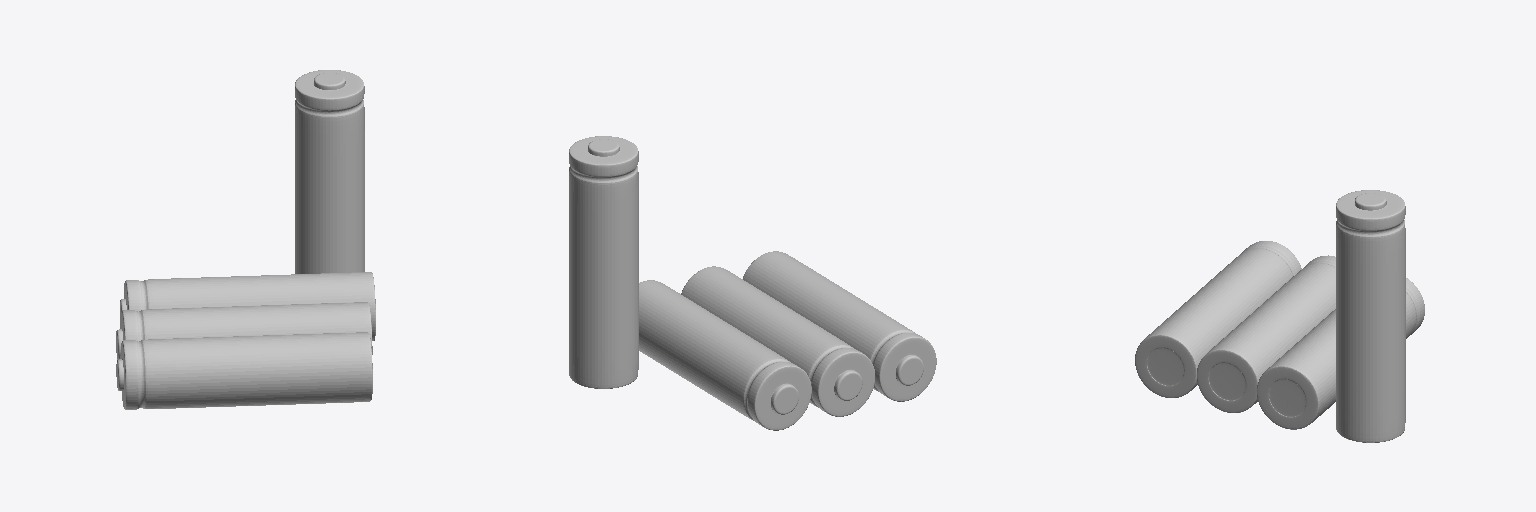
Rendered from uploads_files_3659291_18650_obj.obj.
3 renders of one model, left to right at view 1: azimuth 30°, elevation 25°; view 2: azimuth 150°, elevation 25°; view 3: azimuth 270°, elevation 25°, orthographic.
Parts seen in each view (by area): view 1: Akku_18650.brown_Cylinder.001, Akku_18650_green_Cylinder.055, Akku_18650.pink_Cylinder.003, Akku_18650.blue_Cylinder.002; view 2: Akku_18650_green_Cylinder.055, Akku_18650.pink_Cylinder.003, Akku_18650.blue_Cylinder.002, Akku_18650.brown_Cylinder.001; view 3: Akku_18650_green_Cylinder.055, Akku_18650.brown_Cylinder.001, Akku_18650.blue_Cylinder.002, Akku_18650.pink_Cylinder.003.
Boxes of the visible parts, <box> form: Akku_18650.brown_Cylinder.001: <box>116,332,372,409</box>; Akku_18650_green_Cylinder.055: <box>295,70,364,273</box>; Akku_18650.pink_Cylinder.003: <box>120,272,375,340</box>; Akku_18650.blue_Cylinder.002: <box>116,302,372,359</box>; Akku_18650_green_Cylinder.055: <box>569,136,638,388</box>; Akku_18650.pink_Cylinder.003: <box>639,280,811,430</box>; Akku_18650.blue_Cylinder.002: <box>681,266,874,416</box>; Akku_18650.brown_Cylinder.001: <box>743,251,936,401</box>; Akku_18650_green_Cylinder.055: <box>1336,190,1405,442</box>; Akku_18650.brown_Cylinder.001: <box>1135,241,1301,397</box>; Akku_18650.blue_Cylinder.002: <box>1197,255,1335,412</box>; Akku_18650.pink_Cylinder.003: <box>1257,278,1424,429</box>.
Size of the model in its own units: 8.83 by 6.5 by 7.43.